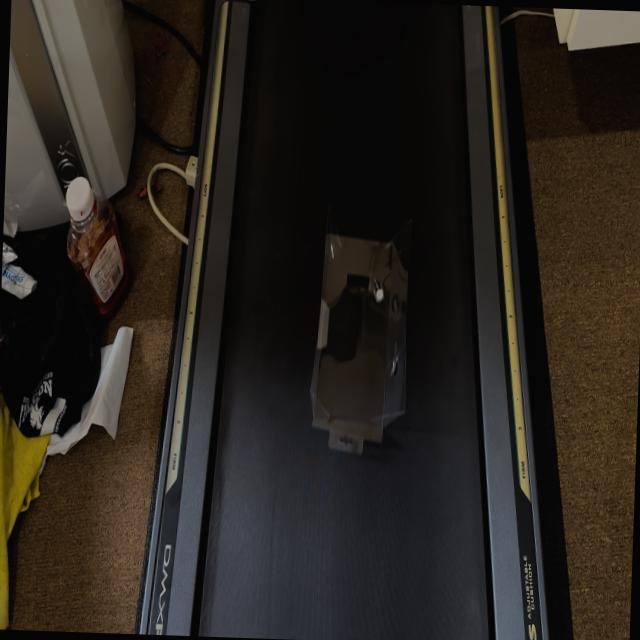Recycle: (306, 198, 416, 456)
